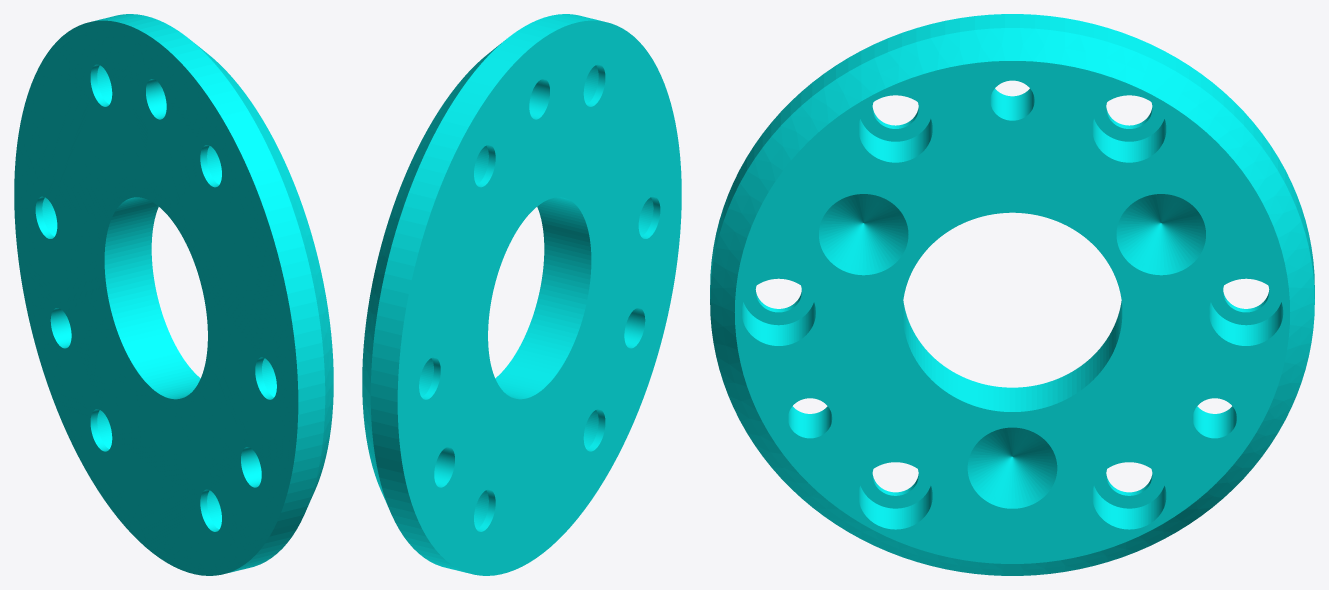
3 views of the same model, side by side, from view 1: azimuth 30°, elevation 25°; view 2: azimuth 150°, elevation 25°; view 3: azimuth 270°, elevation 25° (orthographic). The views are drawn at different scales.
Parts seen in each view (by area): view 1: Node1; view 2: Node1; view 3: Node1.
Boxes of the visible parts, <box> form: Node1: <box>14,14,333,575</box>; Node1: <box>362,14,681,575</box>; Node1: <box>710,14,1314,575</box>.
Bounding box in the file's own units: 10.52 × 110 × 110.
